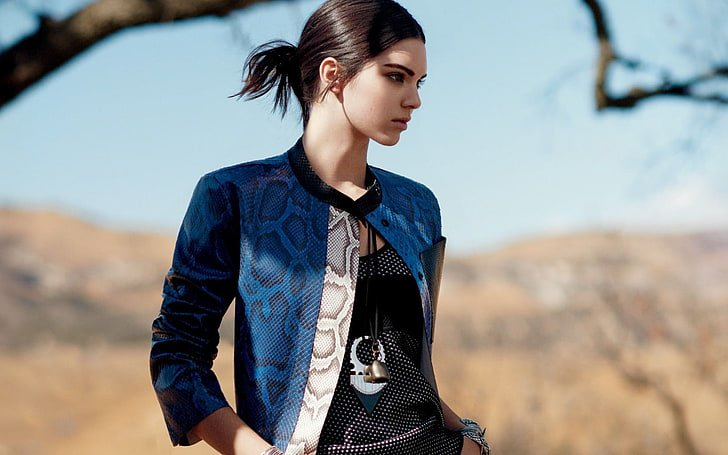noMask: (259, 3, 446, 159)
